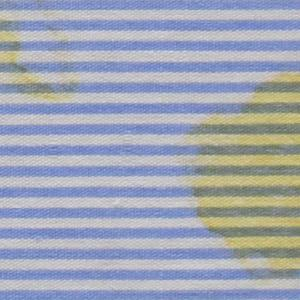Stain: (193, 70, 300, 288), (1, 1, 87, 108)
